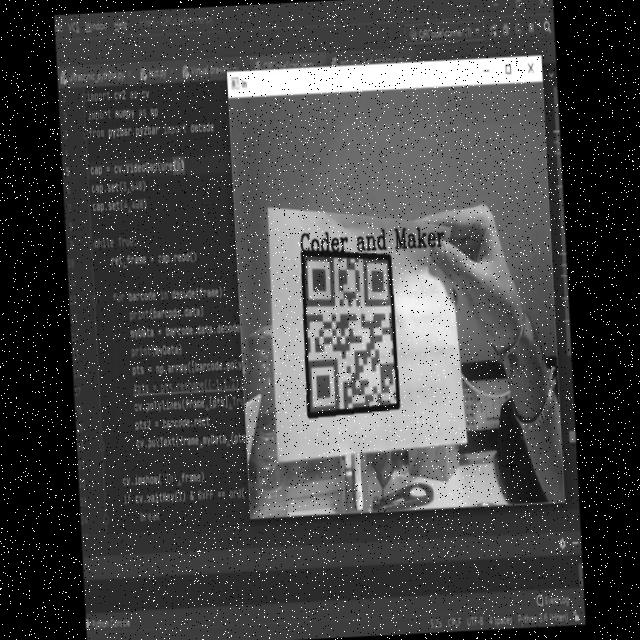QR-codes: (300, 250, 400, 413)
